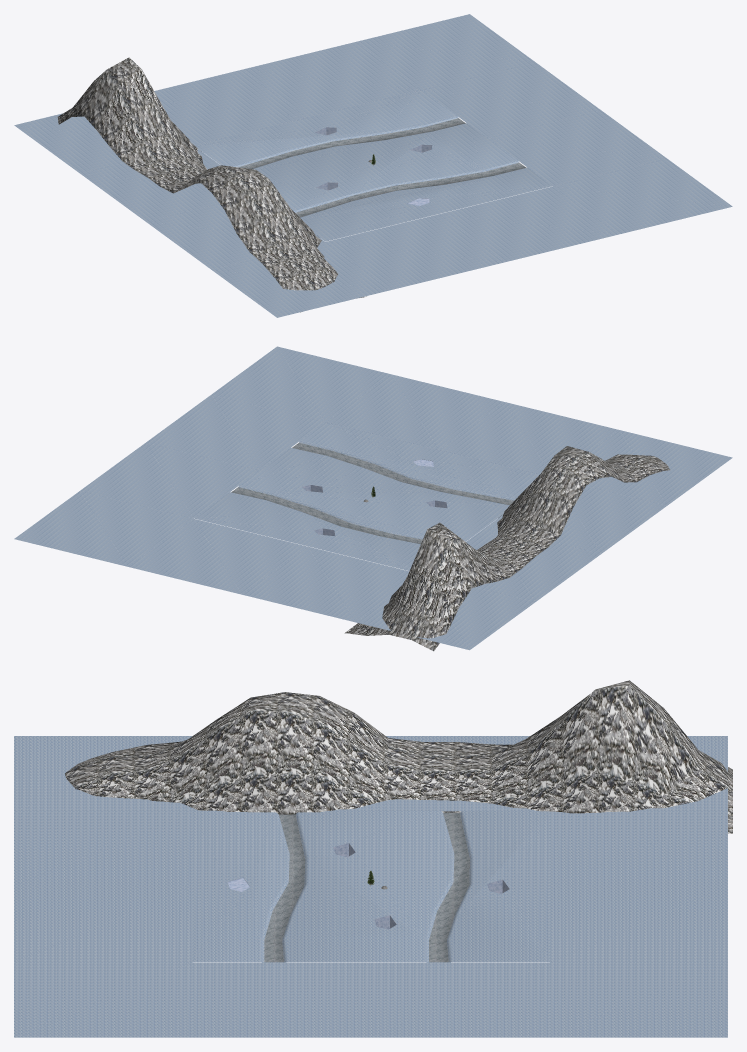
The model's file is deathb.FBX.
3 renders of one model, top to bottom at view 1: azimuth 30°, elevation 25°; view 2: azimuth 150°, elevation 25°; view 3: azimuth 270°, elevation 25°, orthographic. The views are drawn at different scales.
Parts seen in each view (by area): view 1: db_back, db_lands, db_hills; view 2: db_back, db_lands, db_hills; view 3: db_back, db_hills, db_lands.
Boxes of the visible parts, box(x1,y1,x2,y2) form: db_back: box(14, 14, 732, 317); db_lands: box(194, 90, 552, 241); db_hills: box(57, 57, 366, 312); db_back: box(14, 346, 732, 650); db_lands: box(194, 422, 539, 570); db_hills: box(344, 446, 669, 651); db_back: box(14, 736, 727, 1037); db_hills: box(65, 680, 732, 833); db_lands: box(192, 811, 549, 962).
Bounding box in the file's own units: 2000 × 2014 × 365.
